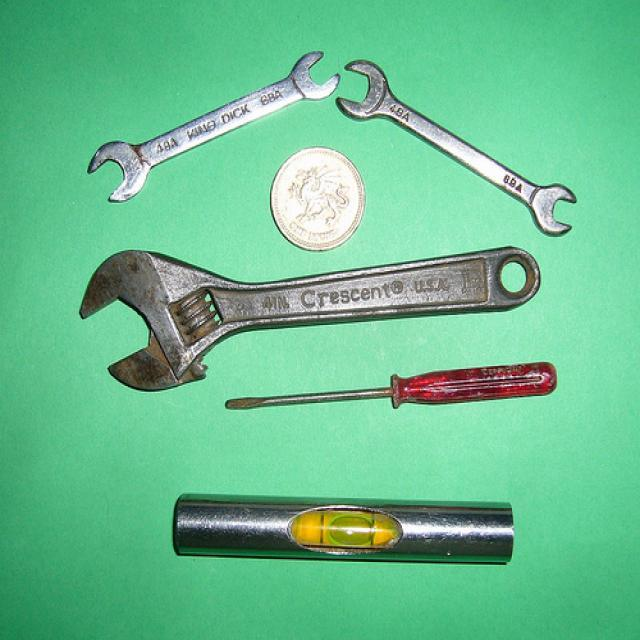screwdriver: (220, 353, 564, 413)
wrench: (74, 242, 546, 398), (335, 52, 585, 242), (82, 44, 349, 208)
